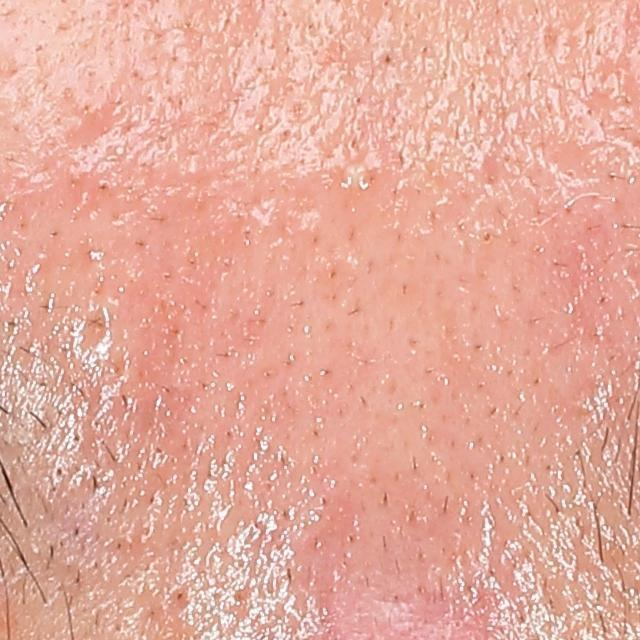pustule: (340, 159, 378, 200)
